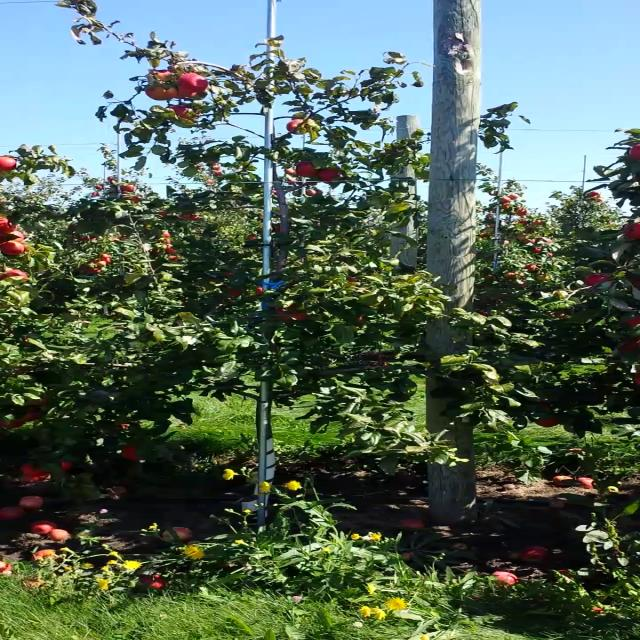apple: (175, 72, 209, 91), (21, 463, 50, 482), (145, 85, 176, 101), (295, 160, 317, 177), (0, 240, 26, 254), (278, 308, 304, 320), (166, 105, 191, 117), (318, 168, 339, 182), (0, 218, 16, 235), (532, 417, 558, 427), (0, 156, 16, 172), (624, 223, 639, 239), (5, 269, 28, 279), (586, 274, 605, 286), (154, 69, 172, 81), (285, 119, 303, 131), (21, 410, 42, 420), (0, 420, 25, 428), (177, 85, 195, 96), (622, 338, 638, 350), (121, 446, 137, 458), (10, 230, 25, 242), (629, 143, 639, 160), (60, 462, 72, 470), (628, 316, 639, 324), (631, 373, 639, 383), (353, 315, 362, 323), (229, 290, 240, 296), (347, 278, 358, 282), (256, 286, 262, 293)
